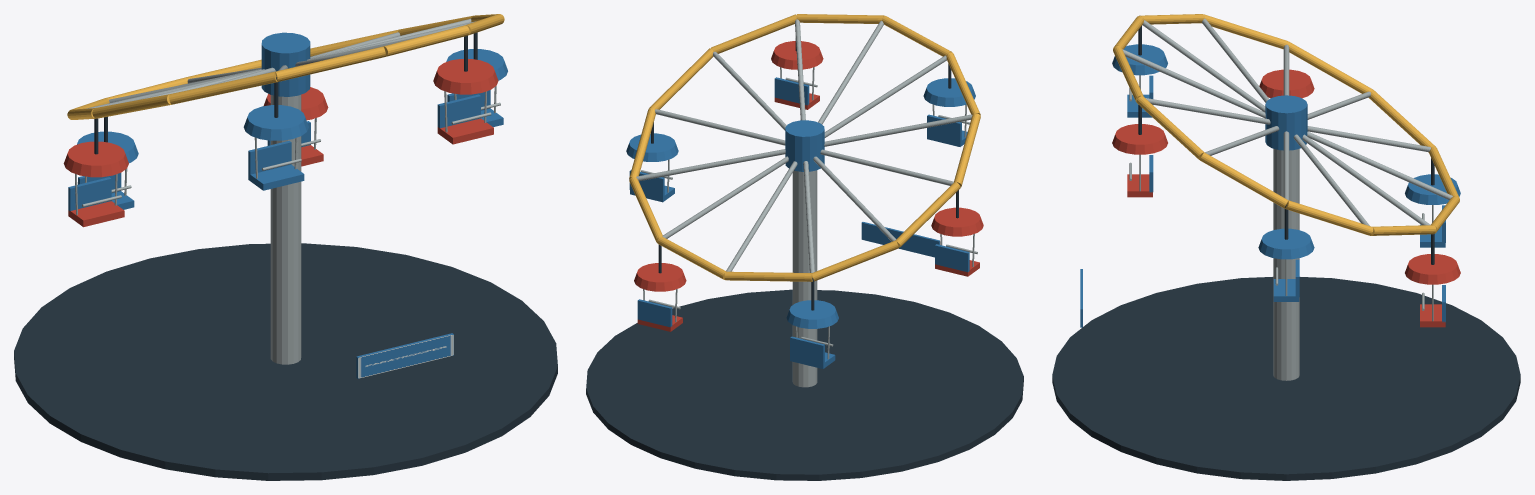
File: scendance-plan-paratrooper.glb
The picture shows the model from 3 angles, left to right: view 1: azimuth 30°, elevation 25°; view 2: azimuth 150°, elevation 25°; view 3: azimuth 270°, elevation 25°; orthographic projection. The views are drawn at different scales.
Size of the model in its own units: 8.84 by 7 by 8.84.
Materials: 6 (1 with a texture image).
